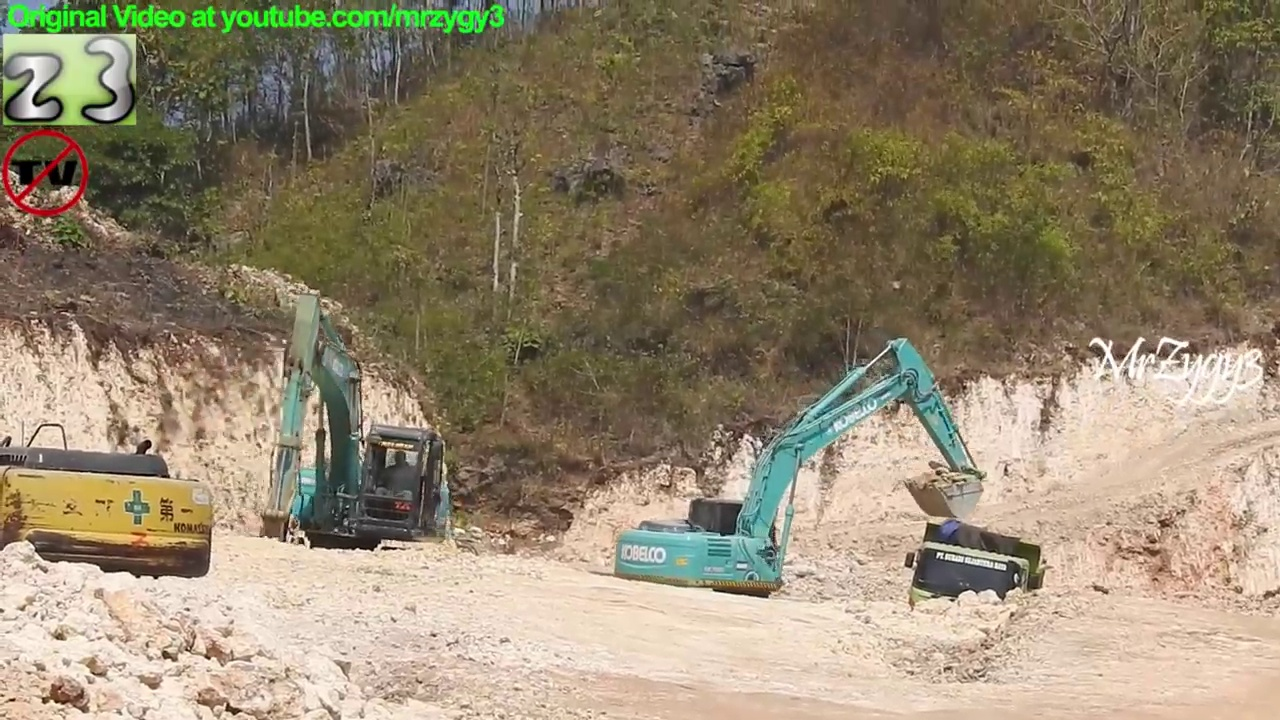excavator: (609, 330, 991, 620), (250, 283, 462, 588), (1, 420, 219, 585)
truck: (900, 516, 1055, 655)
